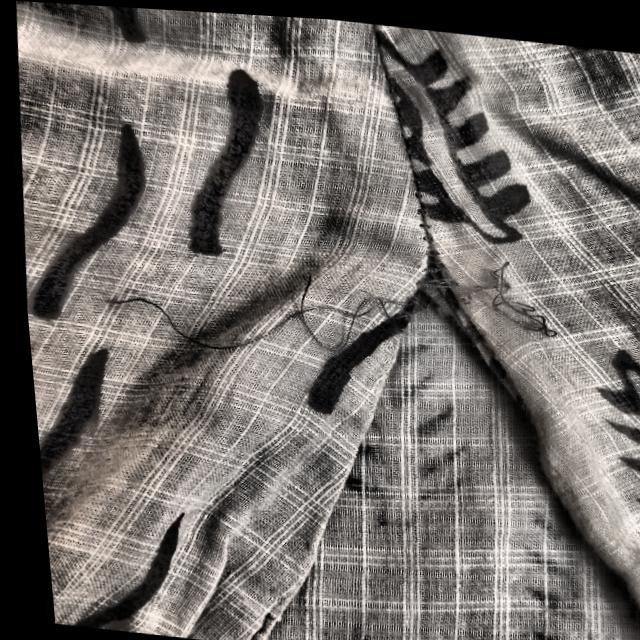Stitch: (297, 171, 593, 393)
